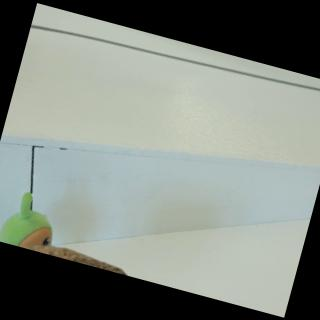teletubby: (0, 192, 51, 247)
